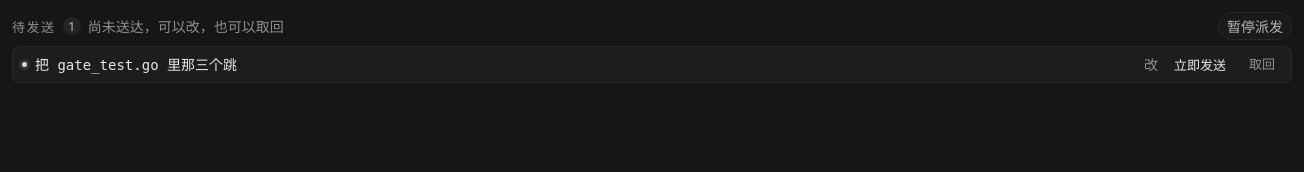
editing a pending entry › opens on the whole instruction, not on the row's preview
Step 1. Click the button "改" → {"x": 1151, "y": 64}, box [1140,55,1162,74]
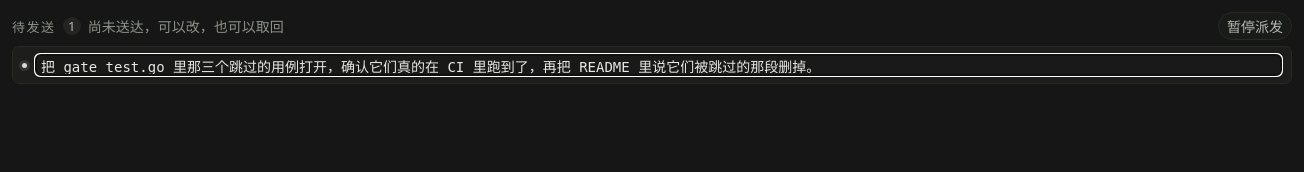
expect the text box holds "把 gate_test.go 里那三个跳过的用例打开，确认它们真的在 CI 里跑到了，再把 README 里说它们被跳过的那段删掉。": met, box [35,54,1282,76]
